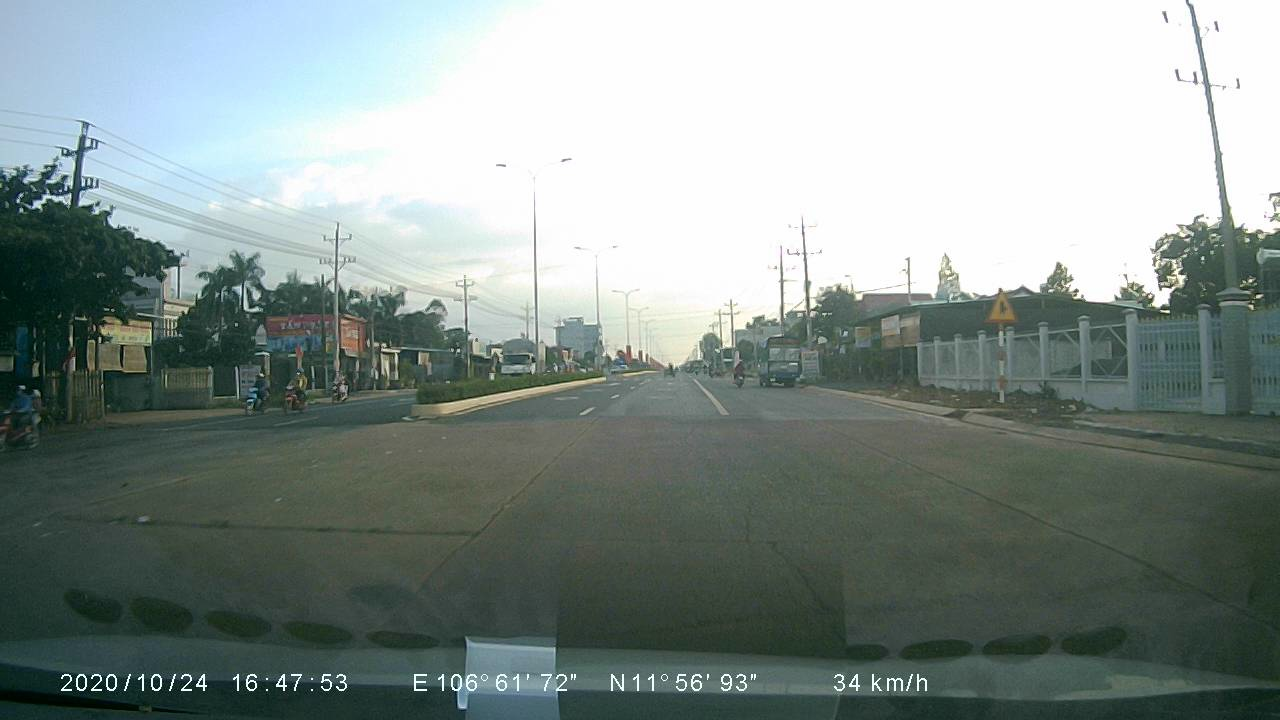Giao nhau voi duong khong uu tien: (980, 281, 1024, 330)
